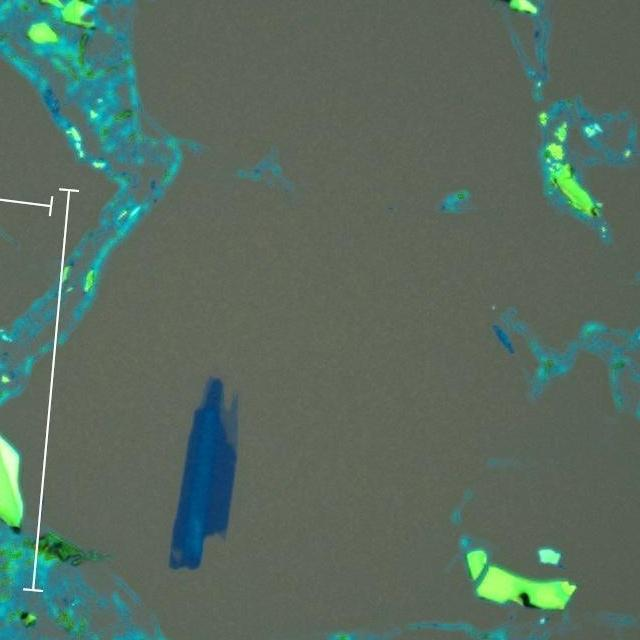monolayer-eWW4: (219, 391, 242, 450)
